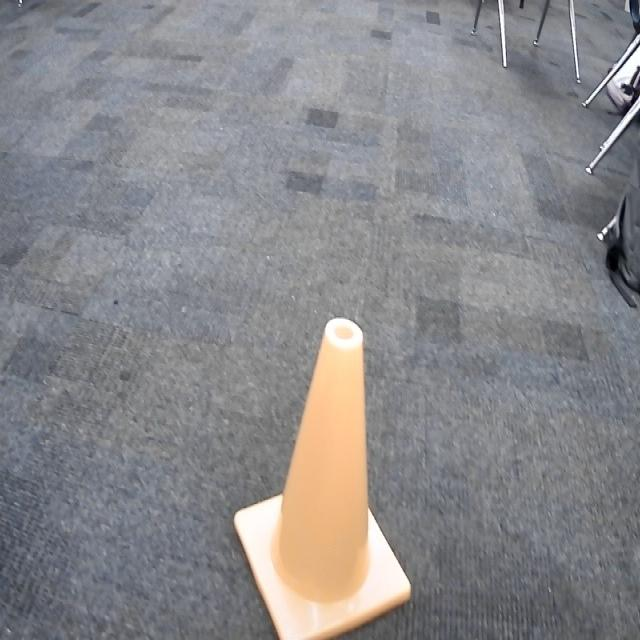cone: (233, 314, 411, 640)
